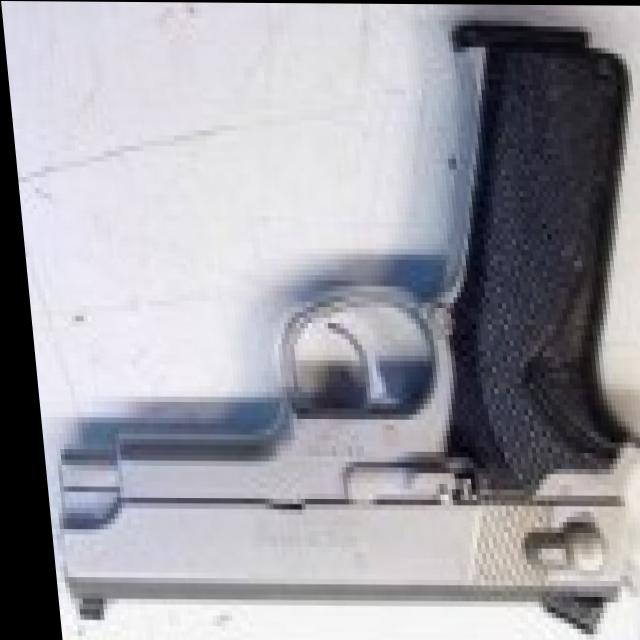handgun: (10, 32, 640, 633)
